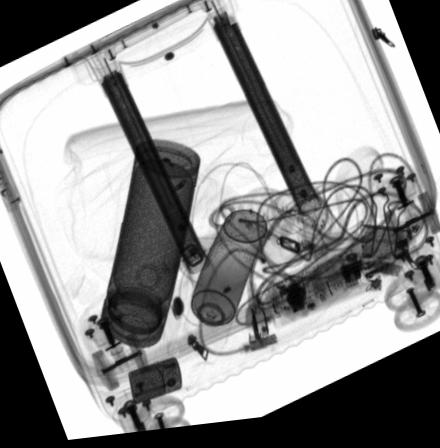Lighter: (126, 360, 181, 407)
Sprayer: (179, 214, 267, 363)
